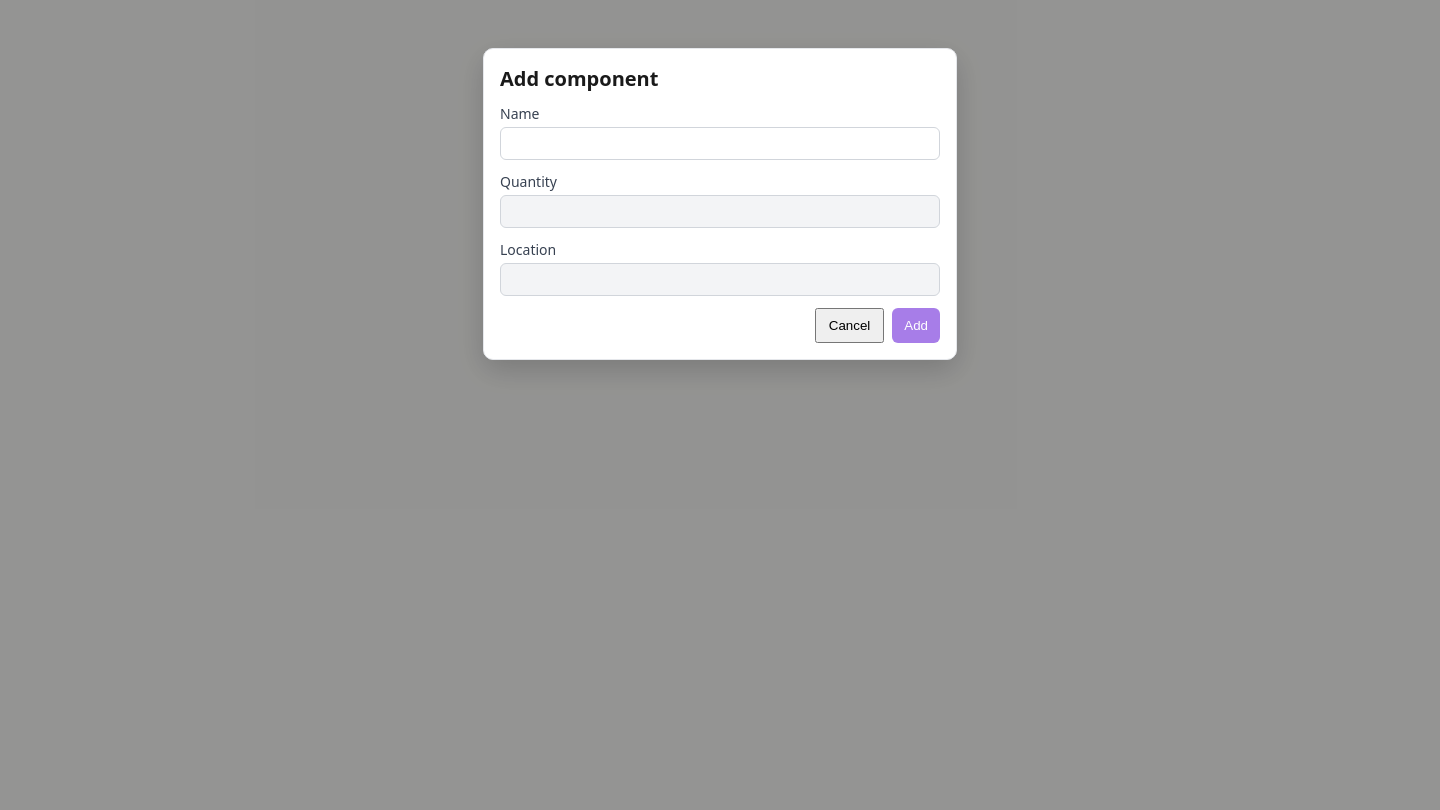
Test: AddComponentModal › rejects a quantity below 1 without submitting
Type "Cap" into the field labelled "Name" at [720, 144], box [500,127,940,160]
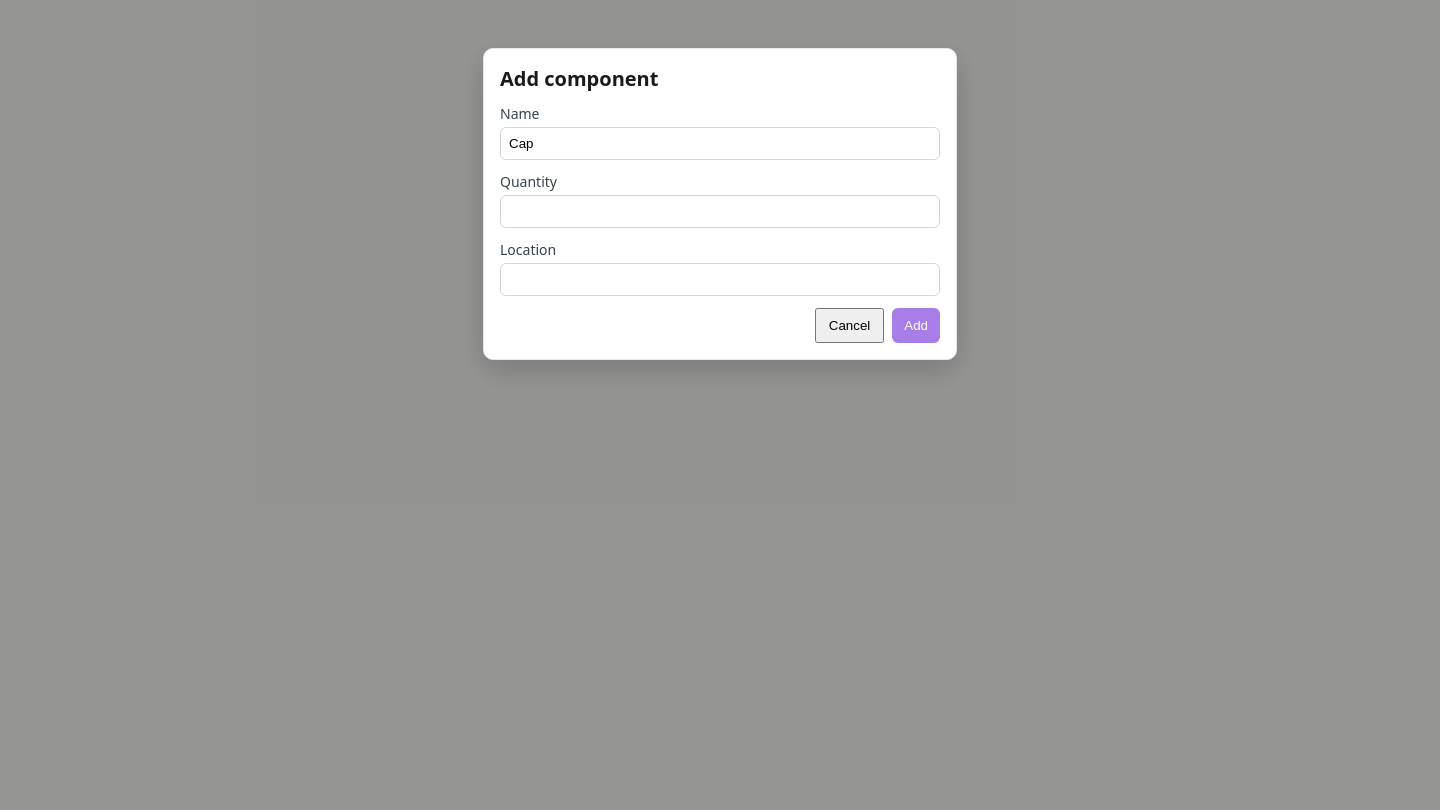
Type "0" into the number field labelled "Quantity" at [720, 212], box [500,195,940,228]
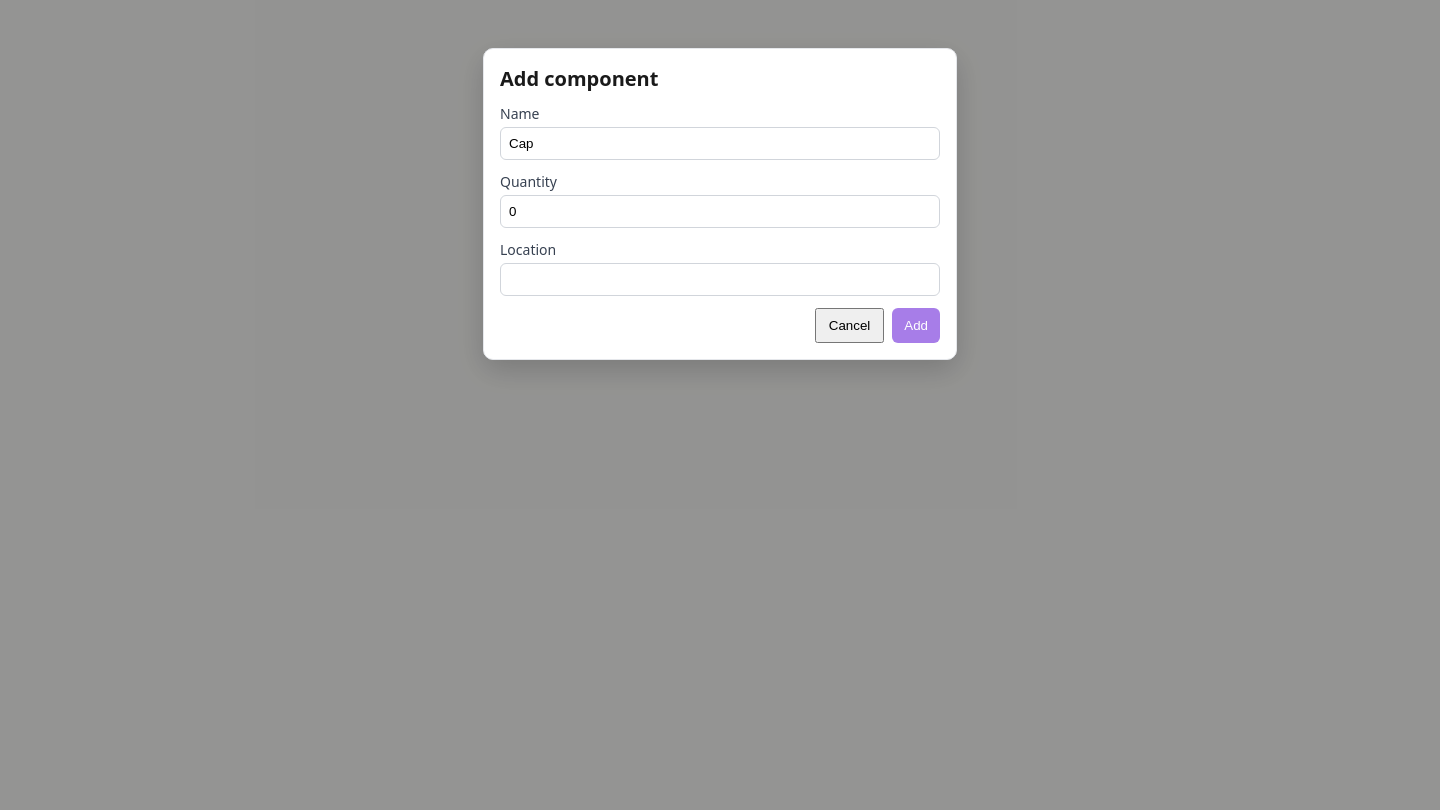
Type "Drawer B" into the field labelled "Location" at [720, 280], box [500,263,940,296]
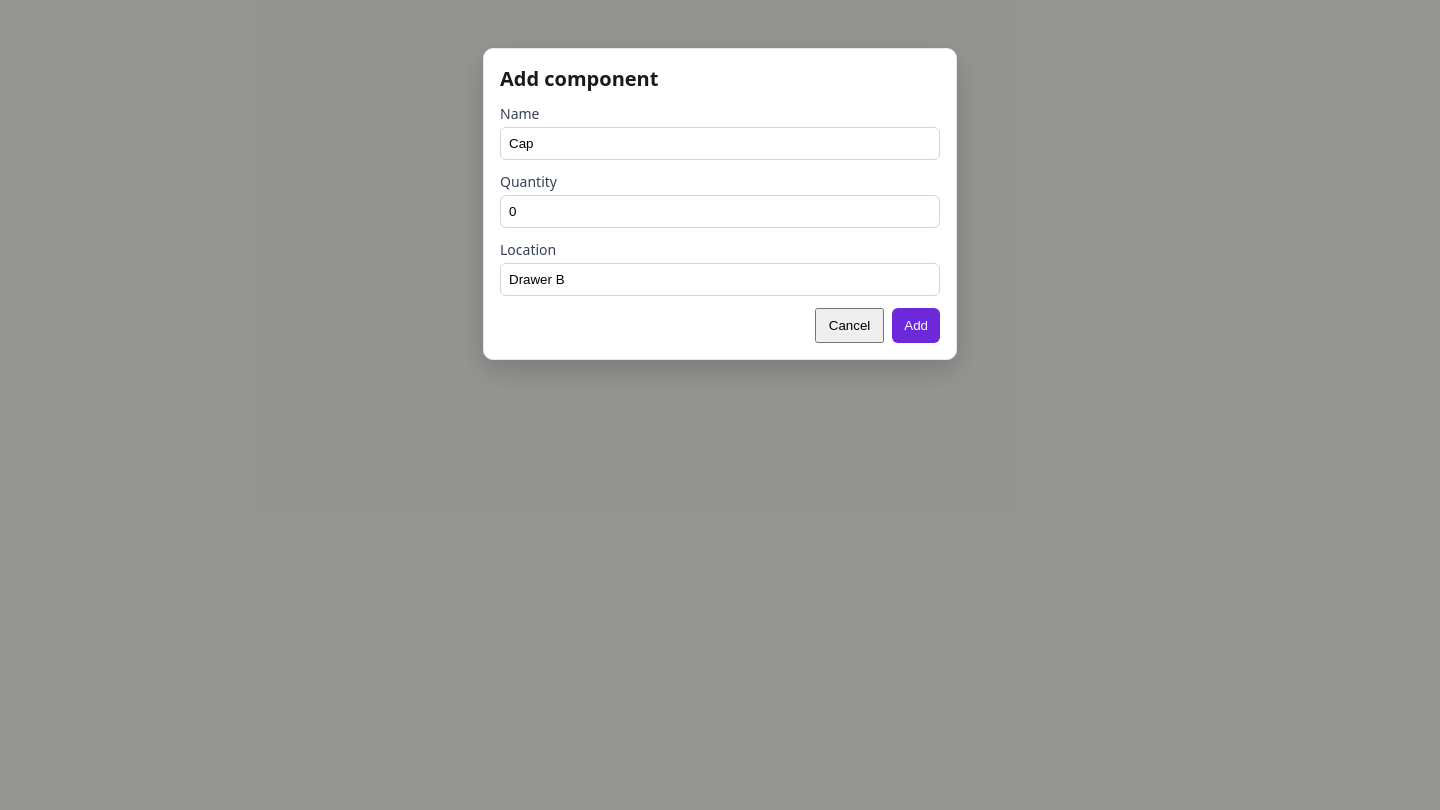
Click the button "Add" at [916, 326], box [892,308,940,343]
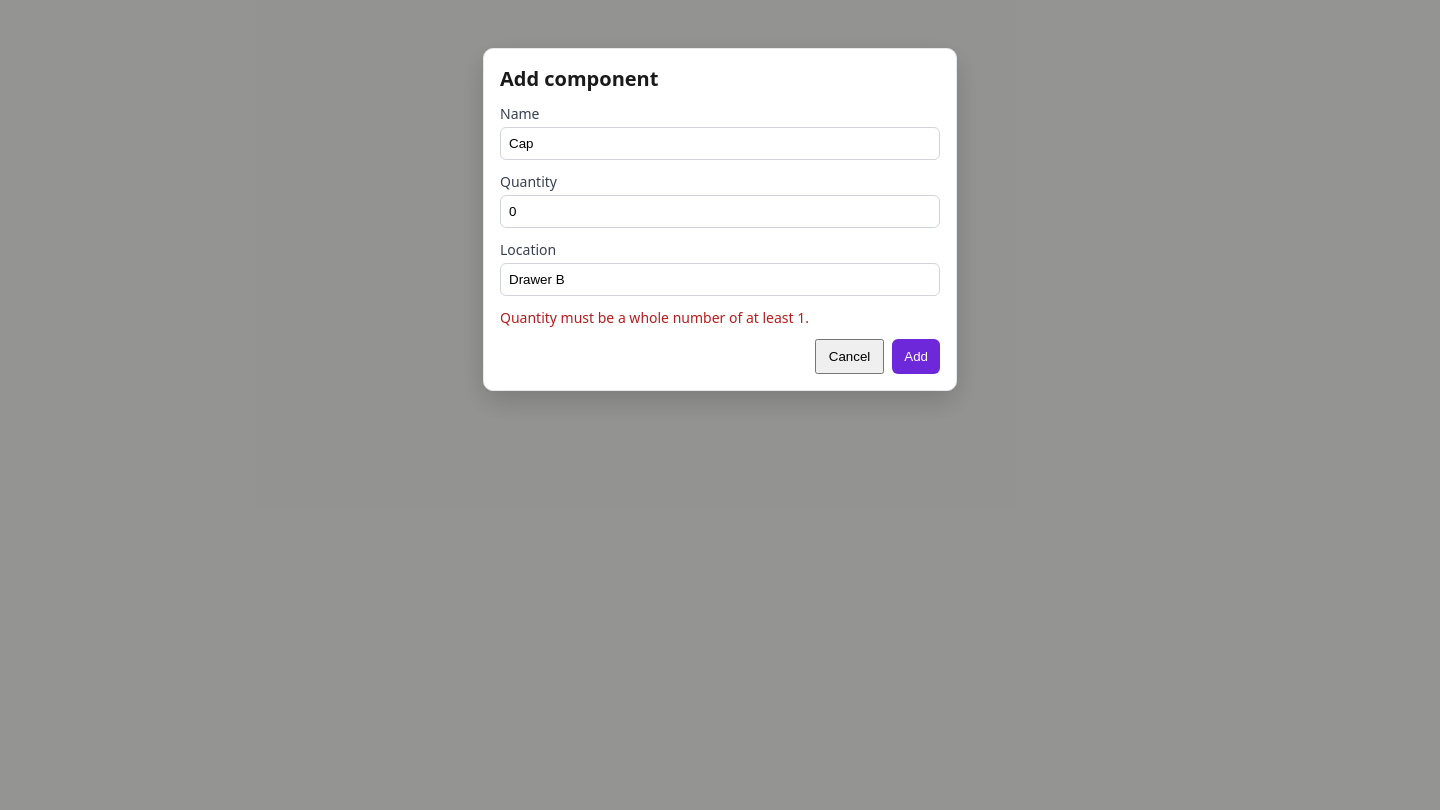
Result: the text "Quantity must be a whole number of at least 1." is shown at [500,308,809,327]
